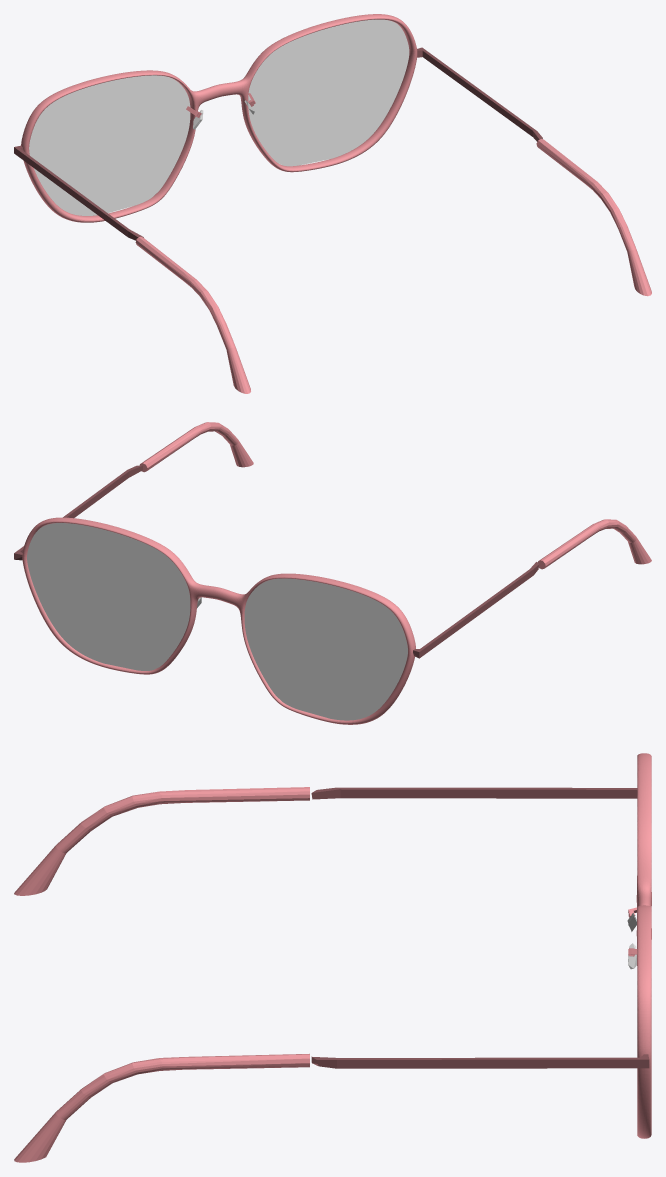
The picture shows the model from 3 angles, top to bottom: view 1: azimuth 30°, elevation 25°; view 2: azimuth 150°, elevation 25°; view 3: azimuth 270°, elevation 25°; orthographic projection. The views are drawn at different scales.
Visible parts, largest first — view 1: Plane.001, Plane, Circle, Cube; view 2: Plane.001, Plane, Circle, Cube; view 3: Circle, Cube, Plane.
Boxes of the visible parts, x1=… form: Plane.001: x1=29, y1=19, x2=409, y2=215; Plane: x1=21, y1=14, x2=417, y2=222; Circle: x1=135, y1=139, x2=651, y2=393; Cube: x1=14, y1=47, x2=542, y2=240; Plane.001: x1=27, y1=523, x2=407, y2=720; Plane: x1=22, y1=517, x2=415, y2=724; Circle: x1=139, y1=422, x2=651, y2=569; Cube: x1=14, y1=465, x2=539, y2=658; Circle: x1=14, y1=787, x2=309, y2=1162; Cube: x1=311, y1=787, x2=649, y2=1068; Plane: x1=636, y1=753, x2=651, y2=1138.
Bounding box in the file's own units: 14.71 × 4.83 × 14.41.
